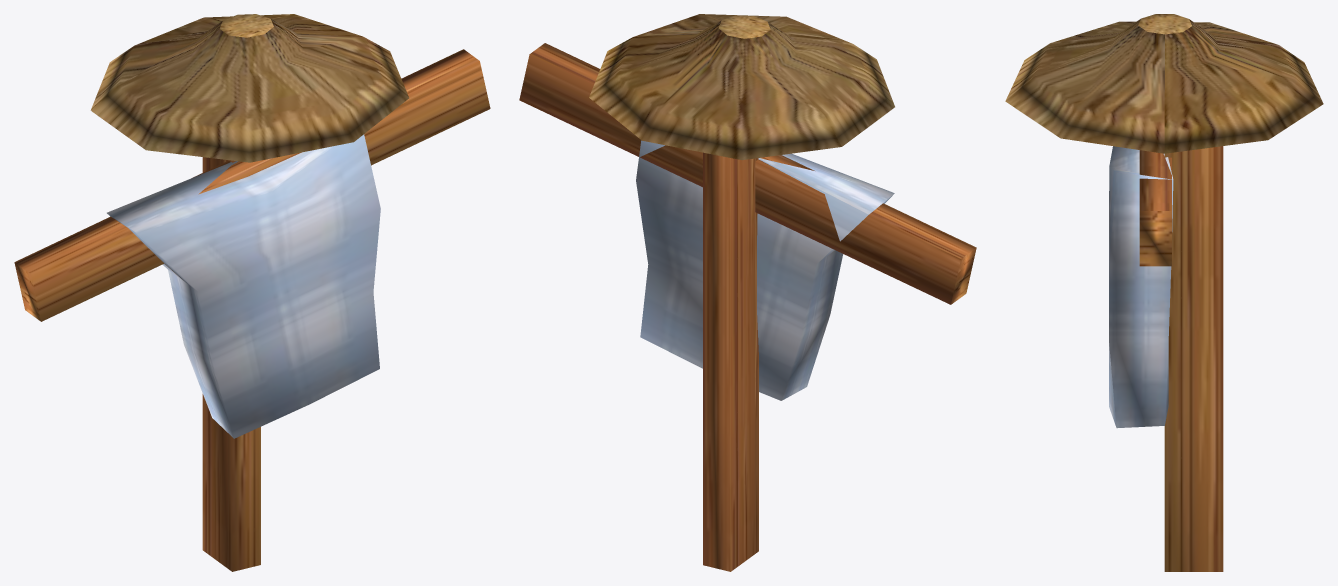
3 renders of one model, left to right at view 1: azimuth 30°, elevation 25°; view 2: azimuth 150°, elevation 25°; view 3: azimuth 270°, elevation 25°, orthographic. The views are drawn at different scales.
Visible parts, largest first — view 1: Shirt, Hat, Wood; view 2: Wood, Hat, Shirt; view 3: Hat, Wood, Shirt.
Part boxes in pixels (box(x1,y1,x2,y2)): Shirt: box(107, 134, 380, 438); Hat: box(90, 14, 408, 162); Wood: box(14, 49, 490, 571); Wood: box(519, 43, 976, 571); Hat: box(589, 14, 894, 160); Shirt: box(636, 140, 894, 400); Hat: box(1005, 14, 1323, 153); Wood: box(1139, 146, 1223, 571); Shirt: box(1109, 146, 1173, 428).
Bounding box in the file's own units: 0.9998 × 1.13 × 0.6007.
Materials: 3 (3 with a texture image).
